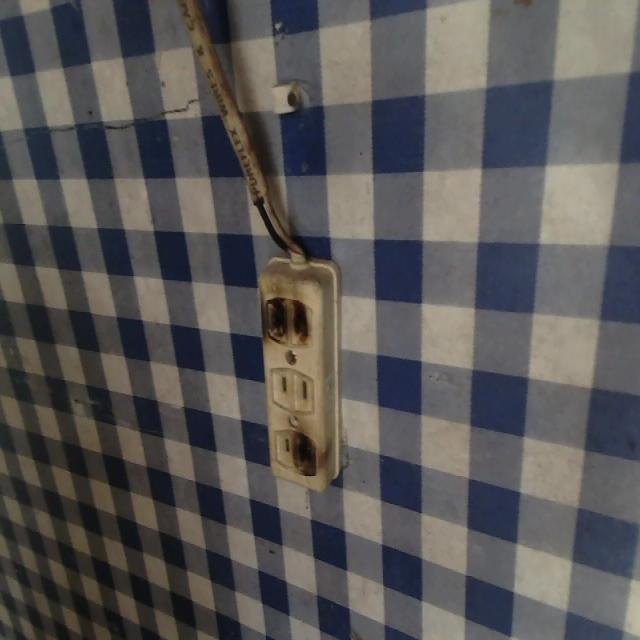-: (257, 292, 315, 349), (289, 428, 318, 480)
